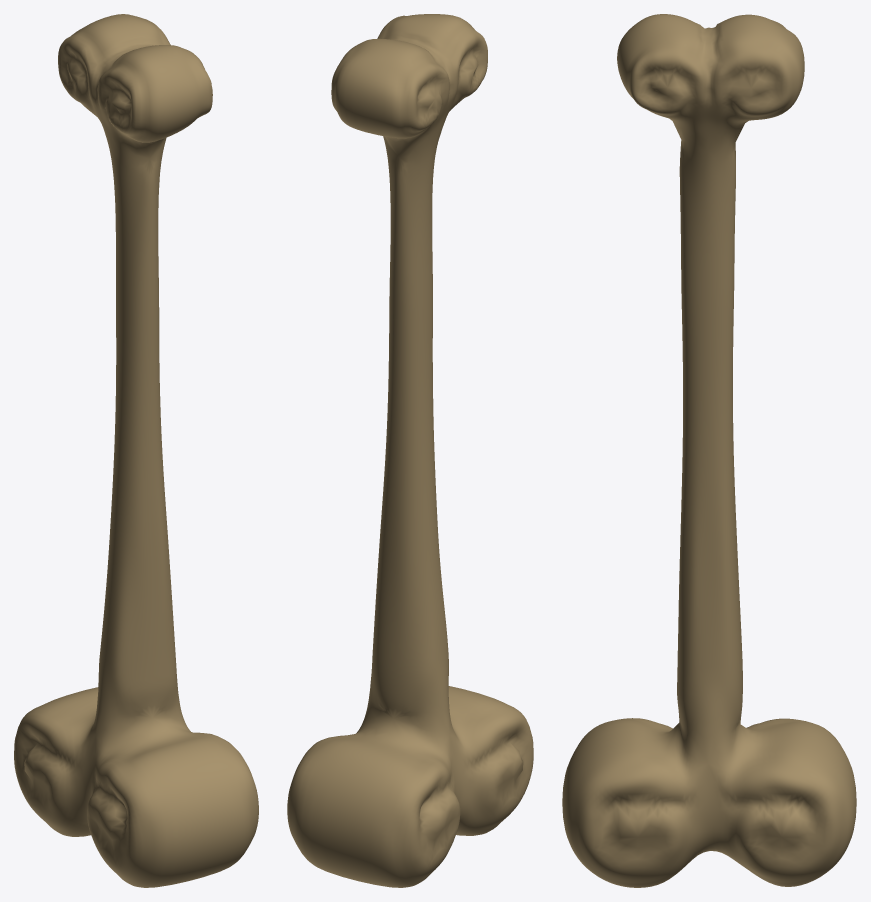
File: Divider.fbx
The picture shows the model from 3 angles, left to right: view 1: azimuth 30°, elevation 25°; view 2: azimuth 150°, elevation 25°; view 3: azimuth 270°, elevation 25°; orthographic projection. The views are drawn at different scales.
Parts seen in each view (by area): view 1: Cube.002; view 2: Cube.002; view 3: Cube.002.
Boxes of the visible parts, x1,y1,x2,y2 form: Cube.002: (14, 14, 258, 887); Cube.002: (287, 14, 533, 887); Cube.002: (562, 14, 856, 887).
Bounding box in the file's own units: 139 × 772 × 243.
